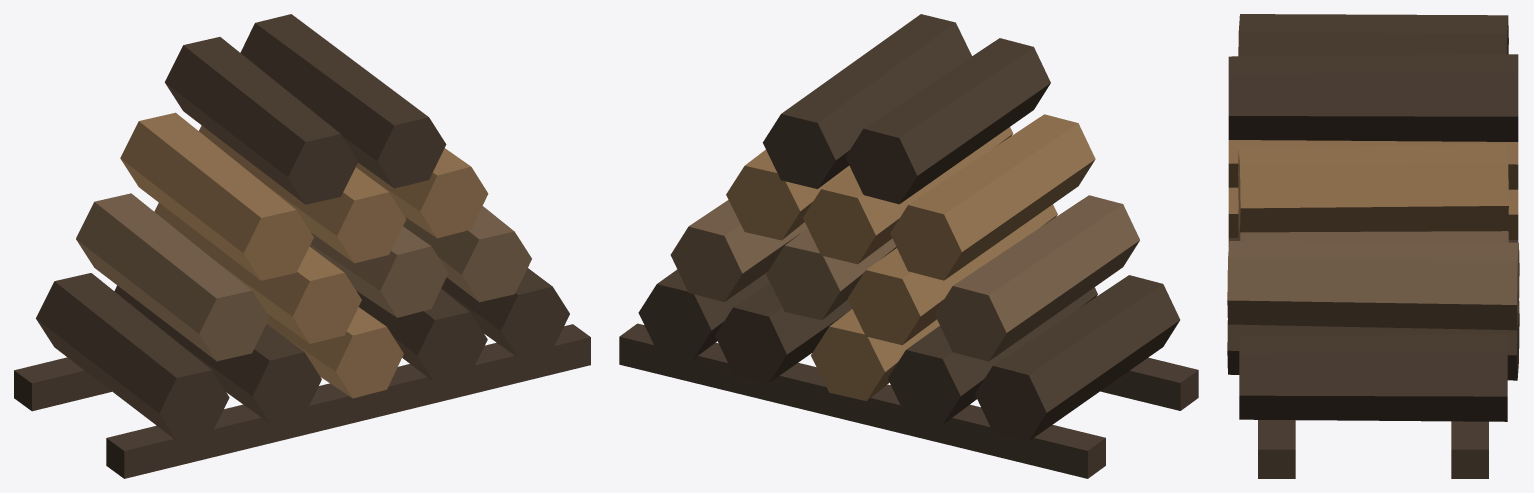
The model's file is woodpile.glb.
The picture shows the model from 3 angles, left to right: view 1: azimuth 30°, elevation 25°; view 2: azimuth 150°, elevation 25°; view 3: azimuth 270°, elevation 25°; orthographic projection. The views are drawn at different scales.
Visible parts, largest first — view 1: woodpile; view 2: woodpile; view 3: woodpile.
Part boxes in pixels (x1,y1,x2,y2): woodpile: (14, 14, 590, 478); woodpile: (619, 14, 1198, 478); woodpile: (1227, 14, 1519, 478).
Size of what is drawn, in the model's own units: 1.05 by 0.651 by 0.5446.
Materials: 1 (1 with a texture image).
